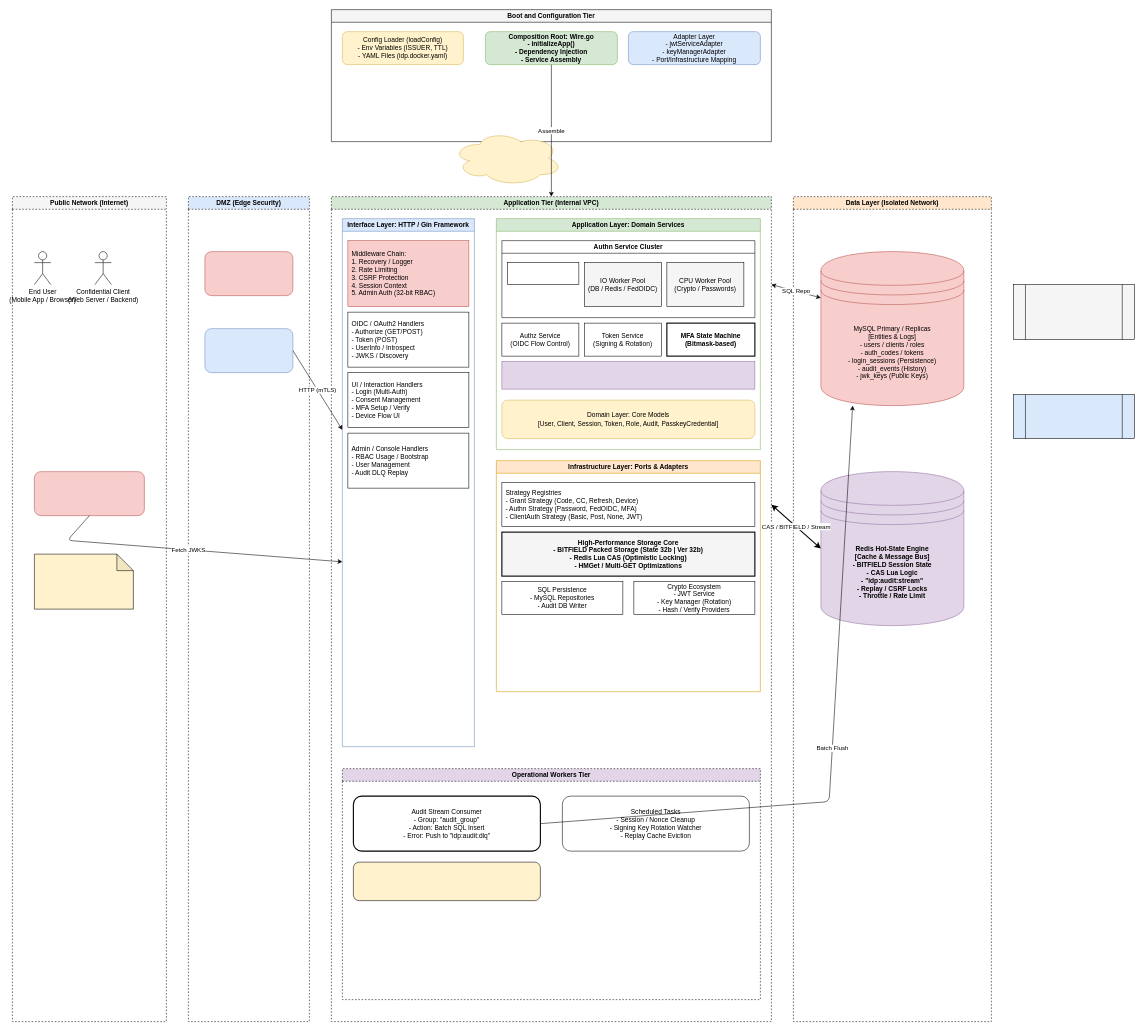
Image size: 1144x1031. Some labels were removed from this diagram. Here are the shapes that lost their labels. From the top down, the centre of each, then its label:
point 507,158: External OIDC Provider [Federation Bridge]
point 248,273: WAF / Anti-DDoS [Rate Limit / IP Block]
point 543,273: Authn Service Core
point 1073,312: KMS / Vault [HSM Security]
point 248,350: Global Load Balancer [SSL Termination]
point 628,375: Audit Stream Producer [XADD to "idp:audit:stream"]
point 1073,416: Notification Gateway [MFA Delivery]
point 89,493: Resource Server (API) [Validates JWT / JWKS]
point 83,581: OIDC Discovery Document [/.well-known/openid-conf]
point 446,881: DLQ Replay Tool - cmd/replay_audit_dlq - Manual Audit Recovery
